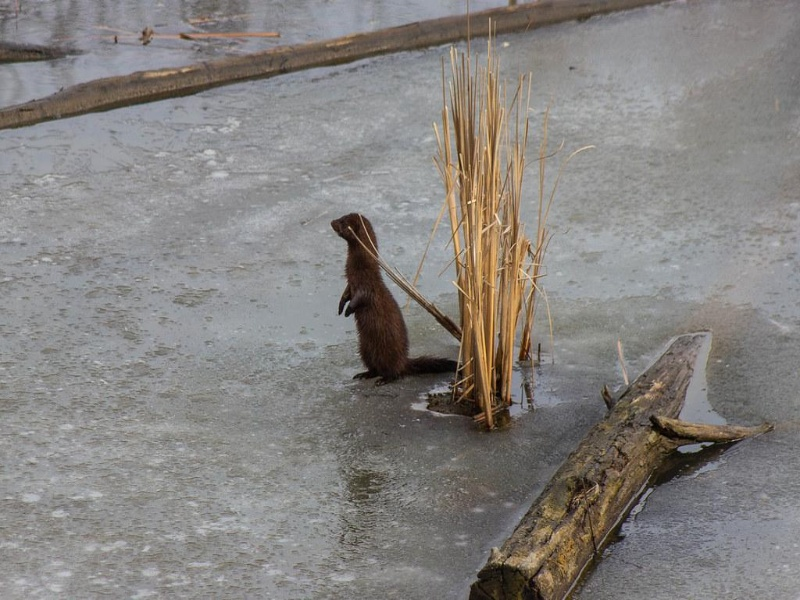minkish: (328, 211, 466, 387)
